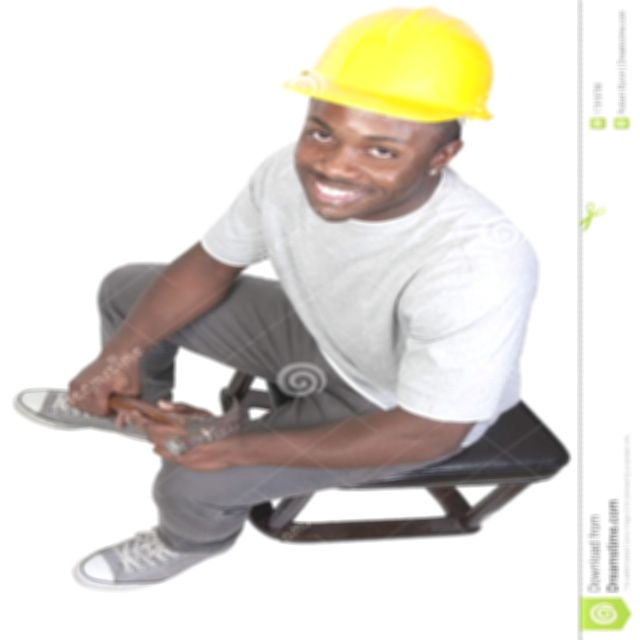Con_Casco: (291, 8, 497, 211)
